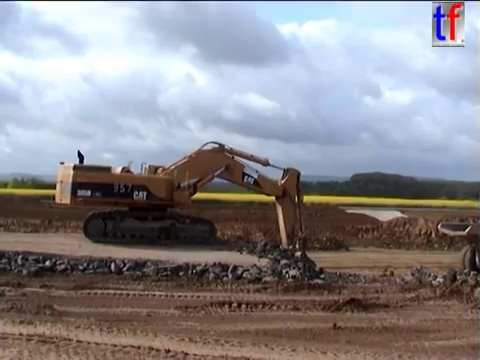excavator: (51, 138, 320, 294)
truck: (435, 218, 480, 276)
